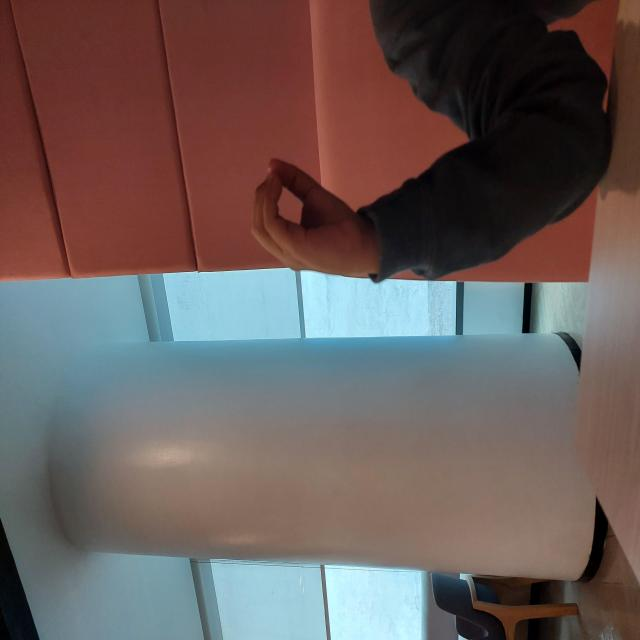O: (359, 244, 491, 375)
